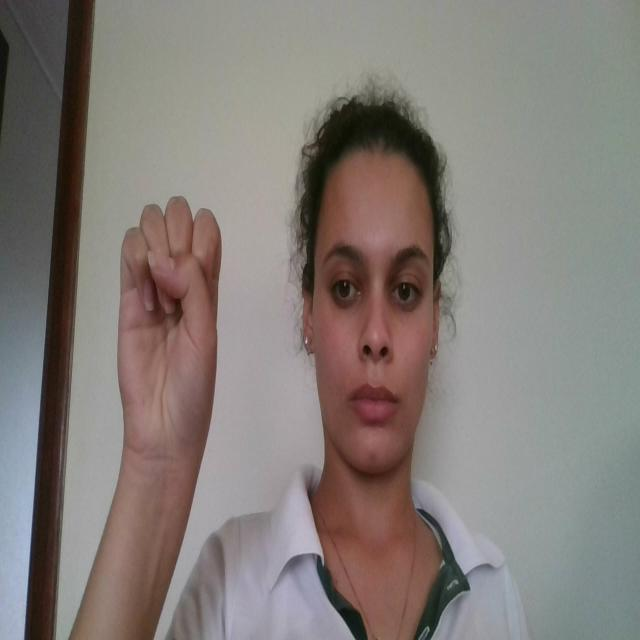S: (114, 187, 223, 460)
